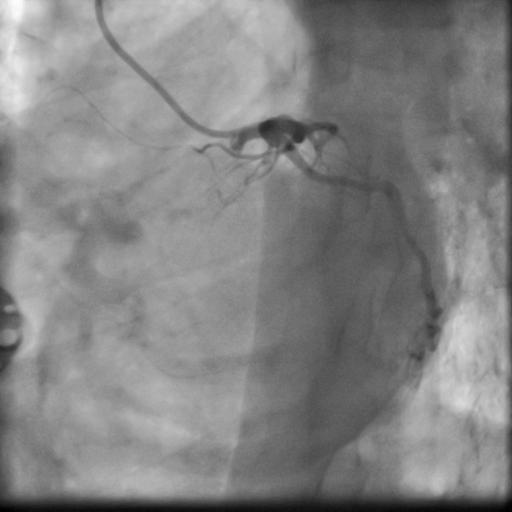Stenosis: (397, 218, 416, 251)
